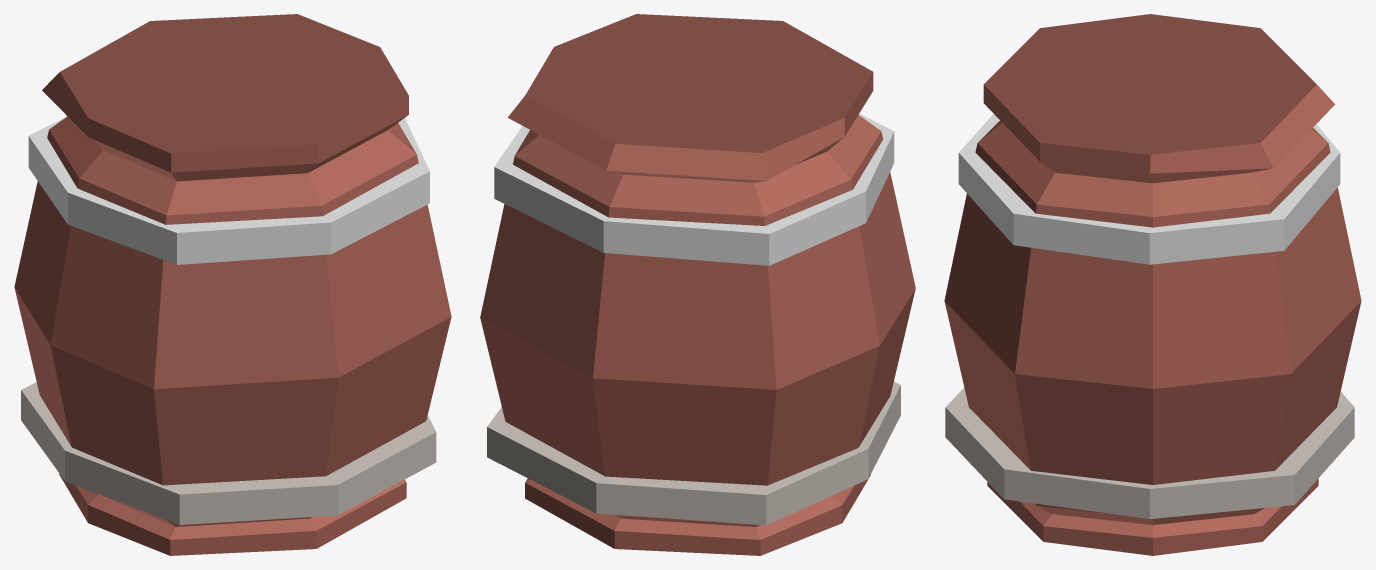
The model's file is Barrel.fbx.
The picture shows the model from 3 angles, left to right: view 1: azimuth 30°, elevation 25°; view 2: azimuth 150°, elevation 25°; view 3: azimuth 270°, elevation 25°; orthographic projection.
Parts seen in each view (by area): view 1: Cube.064, Cube.066, Cube.065; view 2: Cube.064, Cube.066, Cube.065; view 3: Cube.064, Cube.065, Cube.066.
Part boxes in pixels (x1,y1,x2,y2): Cube.064: [14, 14, 451, 555]; Cube.066: [28, 117, 429, 264]; Cube.065: [21, 382, 436, 524]; Cube.064: [480, 14, 915, 555]; Cube.066: [494, 113, 894, 265]; Cube.065: [487, 381, 900, 525]; Cube.064: [944, 14, 1361, 555]; Cube.065: [945, 388, 1354, 518]; Cube.066: [958, 114, 1340, 264].
Bounding box in the file's own units: 252 × 268 × 252.
